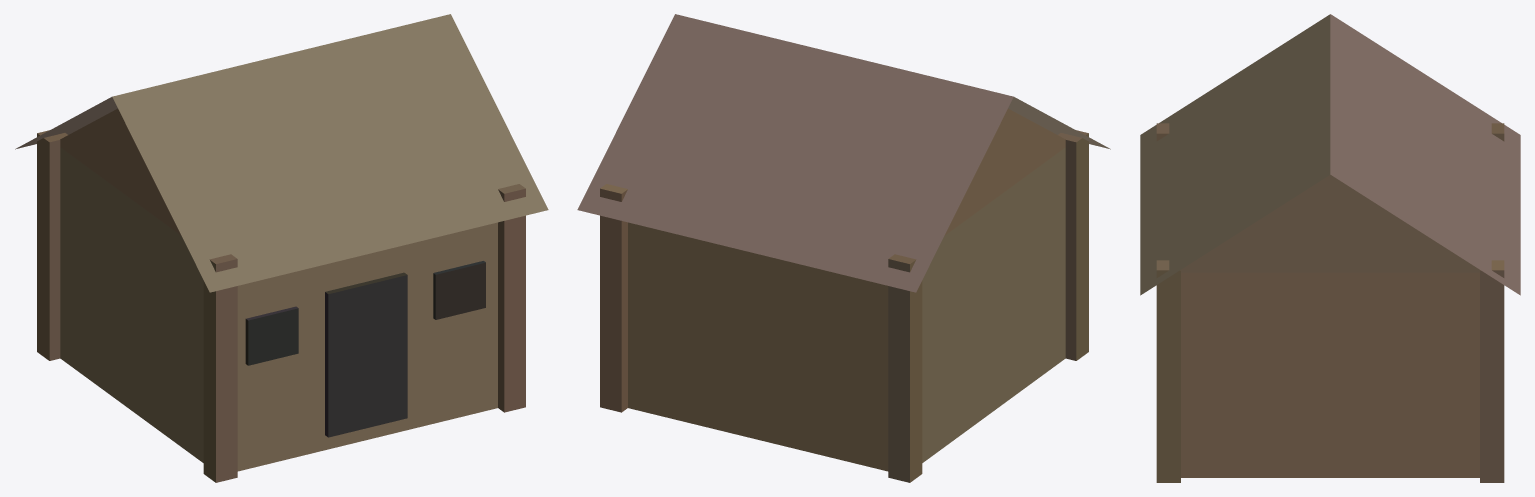
Rendered from Piece_Hut.glb.
3 views of the same model, side by side, from view 1: azimuth 30°, elevation 25°; view 2: azimuth 150°, elevation 25°; view 3: azimuth 270°, elevation 25° (orthographic). The views are drawn at different scales.
Visible parts, largest first — view 1: Piece_Hut; view 2: Piece_Hut; view 3: Piece_Hut.
Boxes of the visible parts, left/top/right/bottom form: Piece_Hut: left=15, top=14, right=548, bottom=482; Piece_Hut: left=577, top=14, right=1110, bottom=482; Piece_Hut: left=1140, top=14, right=1520, bottom=482.
Bounding box in the file's own units: 4.7 × 4.3 × 4.7.
